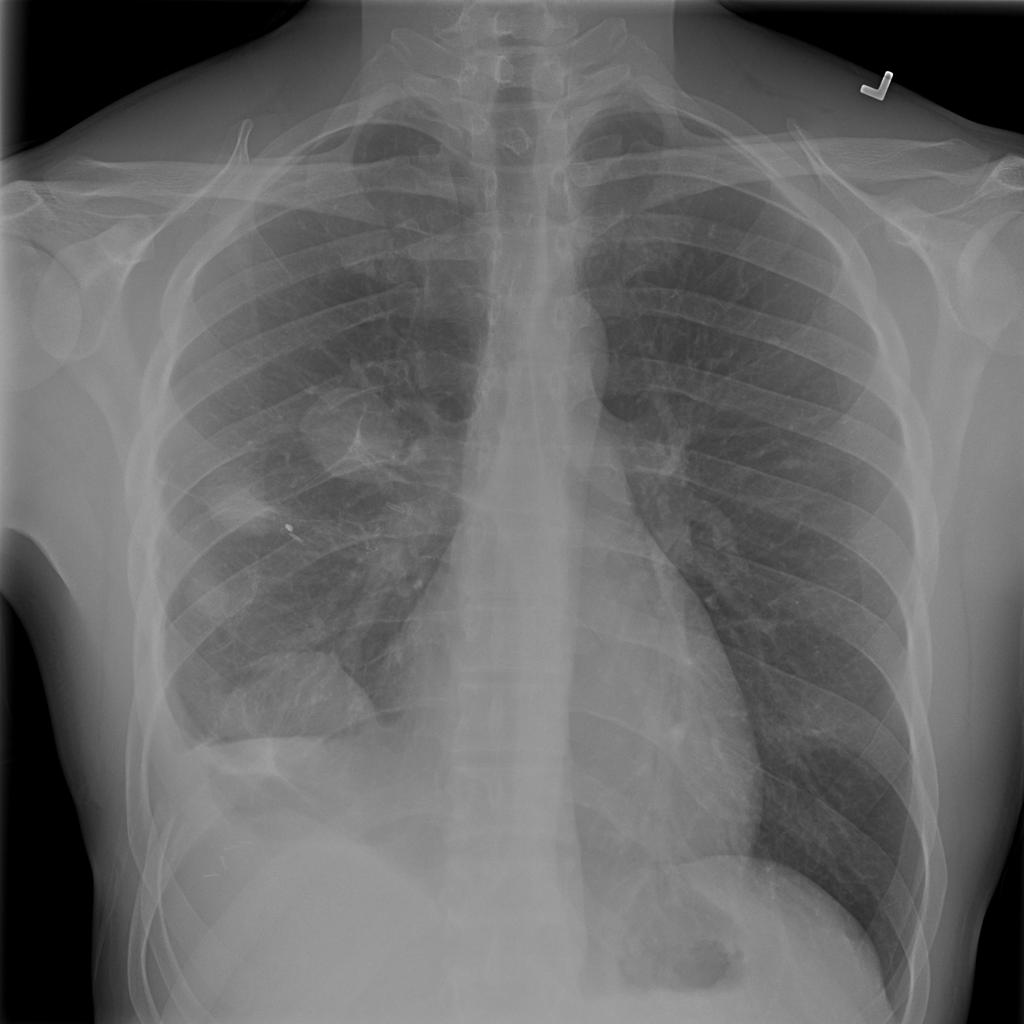nodule: (212, 637, 394, 797), (293, 367, 422, 498), (196, 471, 286, 541), (173, 560, 247, 630), (767, 440, 823, 484)
